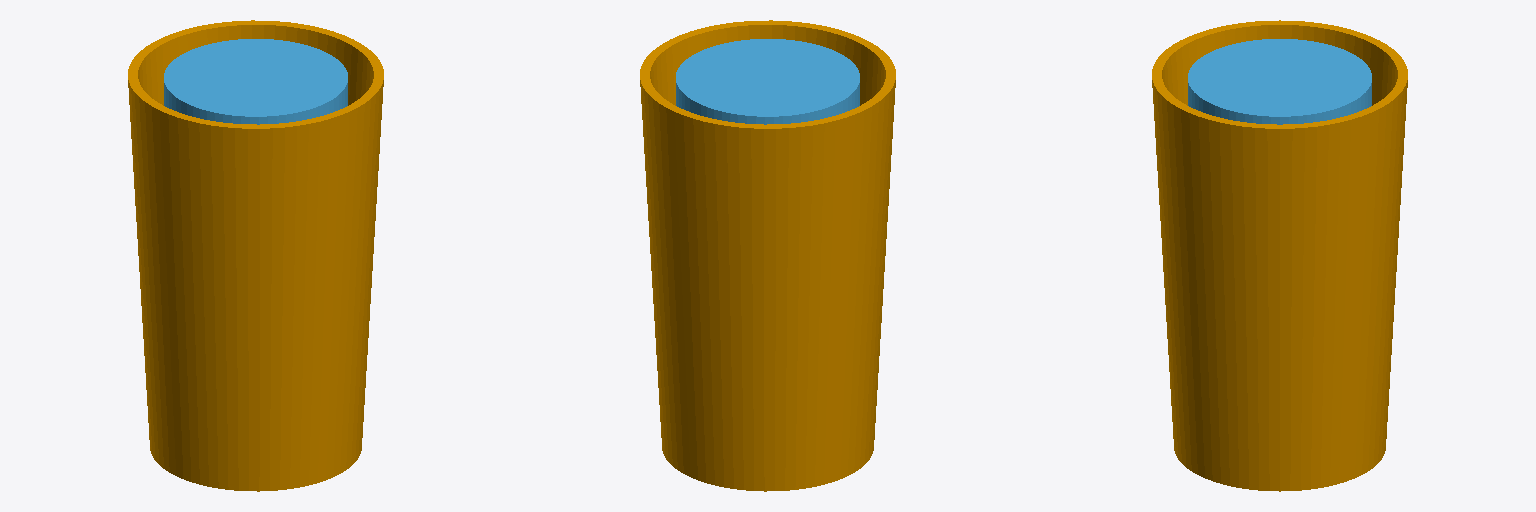
URDF robot description (cup_blue):
<?xml version="1.0" ?>
<robot name="cup_blue">
  <link name="base_link">
    <inertial>
      <origin xyz="0 0 0.06" rpy="0 0 0"/>
      <mass value="0.1254"/>
      <inertia ixx="0.00020926125" ixy="0" ixz="0" iyy="0.00020926125" iyz="0" izz="0.0001175625"/>
    </inertial>
    <visual name="visual">
      <origin xyz="0 0 0" rpy="0 0 0"/>
      <geometry>
        <mesh filename="meshes/visual.obj" scale="1 1 1"/>
      </geometry>
    </visual>
    <collision name="floor">
      <origin xyz="0 0 0" rpy="0 0 0"/>
      <geometry>
        <mesh filename="meshes/collision/floor.obj" scale="1 1 1"/>
      </geometry>
    </collision>
    <collision name="wall_00">
      <origin xyz="0 0 0" rpy="0 0 0"/>
      <geometry>
        <mesh filename="meshes/collision/wall_00.obj" scale="1 1 1"/>
      </geometry>
    </collision>
    <collision name="wall_01">
      <origin xyz="0 0 0" rpy="0 0 0"/>
      <geometry>
        <mesh filename="meshes/collision/wall_01.obj" scale="1 1 1"/>
      </geometry>
    </collision>
    <collision name="wall_02">
      <origin xyz="0 0 0" rpy="0 0 0"/>
      <geometry>
        <mesh filename="meshes/collision/wall_02.obj" scale="1 1 1"/>
      </geometry>
    </collision>
    <collision name="wall_03">
      <origin xyz="0 0 0" rpy="0 0 0"/>
      <geometry>
        <mesh filename="meshes/collision/wall_03.obj" scale="1 1 1"/>
      </geometry>
    </collision>
    <collision name="wall_04">
      <origin xyz="0 0 0" rpy="0 0 0"/>
      <geometry>
        <mesh filename="meshes/collision/wall_04.obj" scale="1 1 1"/>
      </geometry>
    </collision>
    <collision name="wall_05">
      <origin xyz="0 0 0" rpy="0 0 0"/>
      <geometry>
        <mesh filename="meshes/collision/wall_05.obj" scale="1 1 1"/>
      </geometry>
    </collision>
    <collision name="wall_06">
      <origin xyz="0 0 0" rpy="0 0 0"/>
      <geometry>
        <mesh filename="meshes/collision/wall_06.obj" scale="1 1 1"/>
      </geometry>
    </collision>
    <collision name="wall_07">
      <origin xyz="0 0 0" rpy="0 0 0"/>
      <geometry>
        <mesh filename="meshes/collision/wall_07.obj" scale="1 1 1"/>
      </geometry>
    </collision>
    <collision name="wall_08">
      <origin xyz="0 0 0" rpy="0 0 0"/>
      <geometry>
        <mesh filename="meshes/collision/wall_08.obj" scale="1 1 1"/>
      </geometry>
    </collision>
    <collision name="wall_09">
      <origin xyz="0 0 0" rpy="0 0 0"/>
      <geometry>
        <mesh filename="meshes/collision/wall_09.obj" scale="1 1 1"/>
      </geometry>
    </collision>
    <collision name="wall_10">
      <origin xyz="0 0 0" rpy="0 0 0"/>
      <geometry>
        <mesh filename="meshes/collision/wall_10.obj" scale="1 1 1"/>
      </geometry>
    </collision>
    <collision name="wall_11">
      <origin xyz="0 0 0" rpy="0 0 0"/>
      <geometry>
        <mesh filename="meshes/collision/wall_11.obj" scale="1 1 1"/>
      </geometry>
    </collision>
    <collision name="wall_12">
      <origin xyz="0 0 0" rpy="0 0 0"/>
      <geometry>
        <mesh filename="meshes/collision/wall_12.obj" scale="1 1 1"/>
      </geometry>
    </collision>
    <collision name="wall_13">
      <origin xyz="0 0 0" rpy="0 0 0"/>
      <geometry>
        <mesh filename="meshes/collision/wall_13.obj" scale="1 1 1"/>
      </geometry>
    </collision>
    <collision name="wall_14">
      <origin xyz="0 0 0" rpy="0 0 0"/>
      <geometry>
        <mesh filename="meshes/collision/wall_14.obj" scale="1 1 1"/>
      </geometry>
    </collision>
    <collision name="wall_15">
      <origin xyz="0 0 0" rpy="0 0 0"/>
      <geometry>
        <mesh filename="meshes/collision/wall_15.obj" scale="1 1 1"/>
      </geometry>
    </collision>
  </link>
  <link name="meta__base_link_fillable_0_0_link">
    <inertial>
      <origin xyz="0 0 0.05725" rpy="0 0 0"/>
      <mass value="0.0001"/>
      <inertia ixx="1e-8" ixy="0" ixz="0" iyy="1e-8" iyz="0" izz="1e-8"/>
    </inertial>
    <visual name="fillable_volume">
      <origin xyz="0 0 0" rpy="0 0 0"/>
      <geometry>
        <mesh filename="meshes/fillable_volume.obj" scale="1 1 1"/>
      </geometry>
    </visual>
  </link>
  <joint name="base_link_to_fillable" type="fixed">
    <parent link="base_link"/>
    <child link="meta__base_link_fillable_0_0_link"/>
    <origin xyz="0 0 0.0045" rpy="0 0 0"/>
  </joint>
</robot>

--- Render facts (derived) ---
Views: 3 orthographic renders of the robot side by side, from view 1: azimuth 30°, elevation 25°; view 2: azimuth 150°, elevation 25°; view 3: azimuth 270°, elevation 25°.
Robot: cup_blue — 2 links, 1 joints (1 fixed); root link base_link; default pose: every joint at zero.
Links seen in each view (by area): view 1: base_link, meta__base_link_fillable_0_0_link; view 2: base_link, meta__base_link_fillable_0_0_link; view 3: base_link, meta__base_link_fillable_0_0_link.
Boxes of the visible links, x1,y1,x2,y2 form: base_link: (128,20,383,491); meta__base_link_fillable_0_0_link: (164,39,347,124); base_link: (640,20,895,491); meta__base_link_fillable_0_0_link: (676,39,859,124); base_link: (1152,20,1407,491); meta__base_link_fillable_0_0_link: (1188,39,1371,124).
Size in the robot's own frame: 0.075 by 0.075 by 0.12 metres.
2 mesh visuals loaded from 2 distinct referenced files (2 OBJ).
